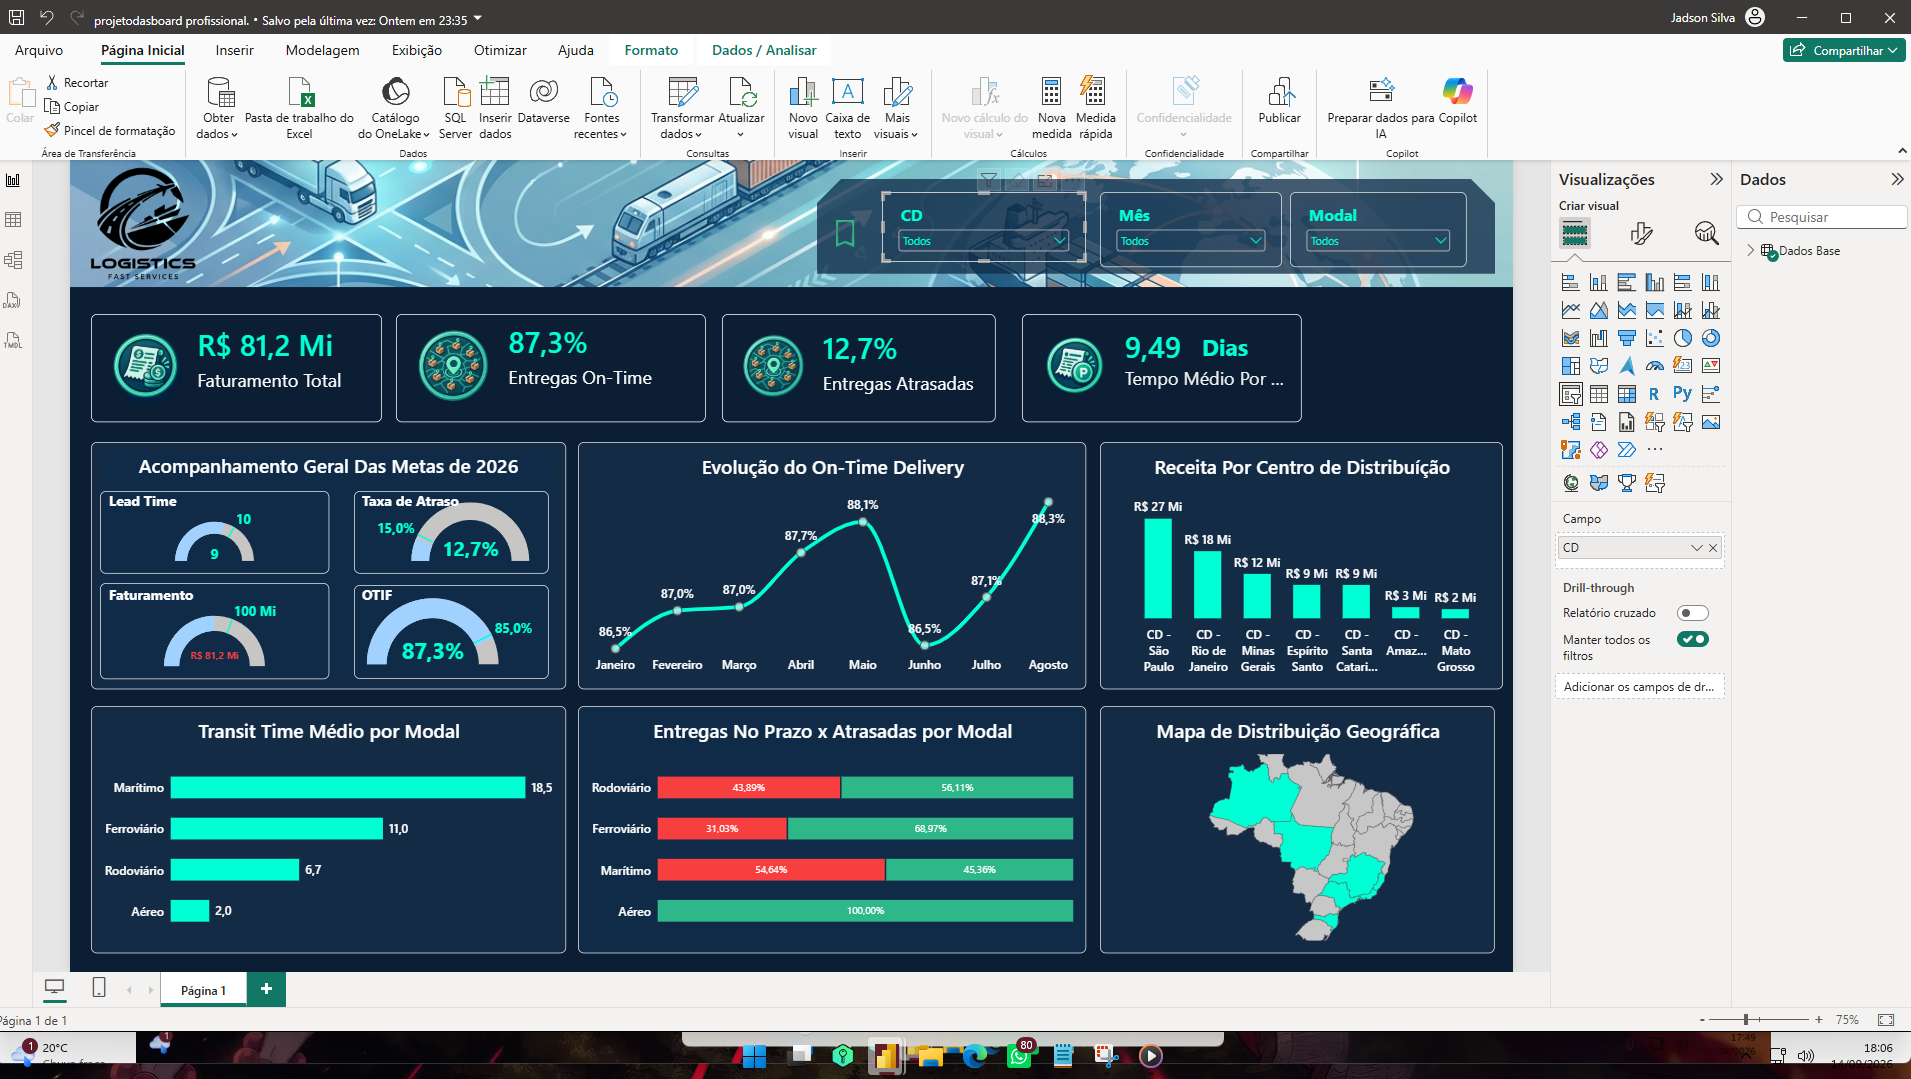

The page's visual inventory and layout, read from the dashboard file:
{"tool":"powerbi","page":{"name":"Página 1","canvas":[1920,1080],"ordinal":0},"visuals":[{"type":"image","box":[0,0,1920.6,168.9],"z":0},{"type":"shape","box":[993.5,25.3,901.8,126.4],"z":1000},{"type":"lineChart","title":"Evolução do On-Time Delivery","fields":{"Category":["performance_entregas_semanal.Mês"],"Y":["performance_entregas_semanal.Taxa de Sucesso Geral"]},"box":[675.7,375.1,675.7,328.5],"z":2000},{"type":"columnChart","title":"Receita Por Centro de Distribuíção","fields":{"Category":["performance_entregas_semanal.CD"],"Y":["performance_entregas_semanal.Faturamento Total"]},"box":[1370,375.1,536,328.5],"z":3000},{"type":"slicer","fields":{"Values":["performance_entregas_semanal.Modal"]},"box":[1622.7,42.6,235.4,99.8],"z":4000},{"type":"slicer","fields":{"Values":["performance_entregas_semanal.Mês"]},"box":[1370,42.6,242.1,99.8],"z":5000},{"type":"slicer","fields":{"Values":["performance_entregas_semanal.CD"]},"box":[1080,42.6,271.3,93.1],"z":6000},{"type":"barChart","fields":{"Category":["performance_entregas_semanal.Modal"],"Y":["performance_entregas_semanal.Transit Time Médio"]},"box":[27.9,726.2,631.8,328.5],"z":7000},{"type":"cardVisual","title":"Tempo Médio de entrega","fields":{"Data":["performance_entregas_semanal.Faturamento Total"]},"box":[27.9,204.8,387,143.6],"z":8000},{"type":"shapeMap","title":"Mapa de Distribuição Geográfica","fields":{"Category":["performance_entregas_semanal.Estado"],"Value":["CountNonNull(performance_entregas_semanal.Quantidade de Entregas Realizadas)"]},"box":[1370,726.2,525.4,328.5],"z":9000},{"type":"cardVisual","fields":{"Data":["performance_entregas_semanal.On-Time Delivery (OTD)"]},"box":[433.6,204.8,412.3,143.6],"z":10000},{"type":"cardVisual","fields":{"Data":["performance_entregas_semanal.Late Deliveries (LD)"]},"box":[867.2,204.8,364.4,143.6],"z":11000},{"type":"cardVisual","fields":{"Data":["performance_entregas_semanal.Transit Time Médio"]},"box":[1266.2,204.8,372.4,143.6],"z":12000},{"type":"image","box":[960.3,49.2,139.7,93.1],"z":13000},{"type":"image","box":[0,0,195.5,168.9],"z":14000},{"type":"hundredPercentStackedBarChart","title":"Entregas No Prazo x Atrasadas por Modal","fields":{"Category":["performance_entregas_semanal.Modal"],"Series":["performance_entregas_semanal.No Prazo"],"Y":["performance_entregas_semanal.Total de entregas"]},"box":[675.7,726.2,675.7,328.5],"z":15000},{"type":"textbox","title":"Dias ","box":[1505.6,227.4,78.5,49.2],"z":16000},{"type":"shape","box":[27.9,375.1,631.8,328.5],"z":17000},{"type":"textbox","title":"Acompanhamento Geral Das Metas de 2026","box":[27.9,375.1,631.8,55.9],"z":18000},{"type":"gauge","title":"OTIF","fields":{"TargetValue":["performance_entregas_semanal.Meta OTIF"],"Y":["performance_entregas_semanal.Entregas On-Time"]},"box":[377.7,565.3,259.4,125],"z":19000},{"type":"gauge","fields":{"TargetValue":["performance_entregas_semanal.Meta Faturamento"],"Y":["performance_entregas_semanal.Faturamento Total"]},"box":[39.9,562.6,304.6,127.7],"z":20000},{"type":"gauge","fields":{"TargetValue":["performance_entregas_semanal.Meta Lead Time"],"Y":["Avg(performance_entregas_semanal.Tempo Médio de Entrega (dias))"]},"box":[39.9,440.2,304.6,110.4],"z":21000},{"type":"textbox","title":"Lead Time","box":[51.9,440.2,102.4,25.3],"z":22000},{"type":"gauge","fields":{"TargetValue":["performance_entregas_semanal.Limite Atraso"],"Y":["performance_entregas_semanal.Entregas Atrasadas"]},"box":[377.7,440.2,259.4,110.4],"z":23000},{"type":"textbox","title":"Taxa de Atraso","box":[388.4,440.2,139.7,25.3],"z":24000},{"type":"textbox","title":"OTIF","box":[388.4,565.3,54.5,31.9],"z":25000},{"type":"textbox","title":"Faturamento","box":[51.9,565.3,117,21.3],"z":26000}]}

Visuals, with their boxes on the page's 1920x1080 design canvas (x1, y1, x2, y2). These are canvas units, not pixel positions in the 1911x1079 screenshot, which may show the page scaled, cropped or inside an application window:
image: 0:0:1921:169
shape: 994:25:1895:152
"Evolução do On-Time Delivery" lineChart: 676:375:1351:704
"Receita Por Centro de Distribuíção" columnChart: 1370:375:1906:704
slicer - performance_entregas_semanal.Modal: 1623:43:1858:142
slicer - performance_entregas_semanal.Mês: 1370:43:1612:142
slicer - performance_entregas_semanal.CD: 1080:43:1351:136
barChart - performance_entregas_semanal.Modal x performance_entregas_semanal.Transit Time Médio: 28:726:660:1055
"Tempo Médio de entrega" cardVisual: 28:205:415:348
"Mapa de Distribuição Geográfica" shapeMap: 1370:726:1895:1055
cardVisual - performance_entregas_semanal.On-Time Delivery (OTD): 434:205:846:348
cardVisual - performance_entregas_semanal.Late Deliveries (LD): 867:205:1232:348
cardVisual - performance_entregas_semanal.Transit Time Médio: 1266:205:1639:348
image: 960:49:1100:142
image: 0:0:196:169
"Entregas No Prazo x Atrasadas por Modal" hundredPercentStackedBarChart: 676:726:1351:1055
"Dias " textbox: 1506:227:1584:277
shape: 28:375:660:704
"Acompanhamento Geral Das Metas de 2026" textbox: 28:375:660:431
"OTIF" gauge: 378:565:637:690
gauge - performance_entregas_semanal.Meta Faturamento x performance_entregas_semanal.Faturamento Total: 40:563:344:690
gauge - performance_entregas_semanal.Meta Lead Time x Avg(performance_entregas_semanal.Tempo Médio de Entrega (dias)): 40:440:344:551
"Lead Time" textbox: 52:440:154:466
gauge - performance_entregas_semanal.Limite Atraso x performance_entregas_semanal.Entregas Atrasadas: 378:440:637:551
"Taxa de Atraso" textbox: 388:440:528:466
"OTIF" textbox: 388:565:443:597
"Faturamento" textbox: 52:565:169:587
